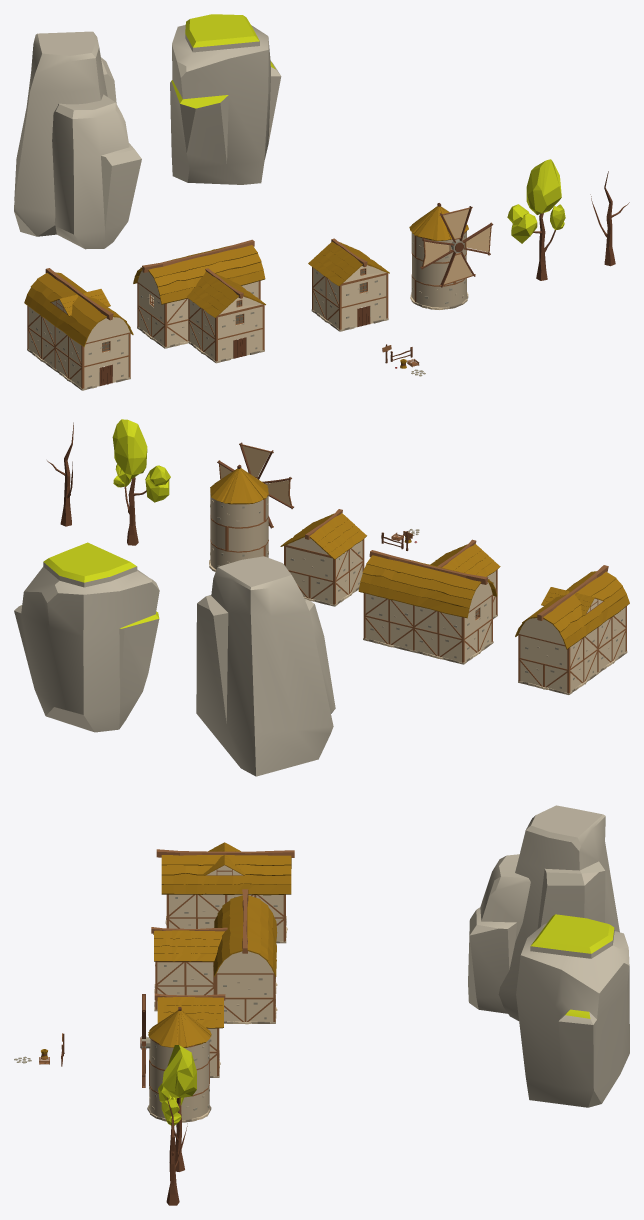
The model's file is Lowpoly Village Starter Kit.fbx.
3 renders of one model, top to bottom at view 1: azimuth 30°, elevation 25°; view 2: azimuth 150°, elevation 25°; view 3: azimuth 270°, elevation 25°, orthographic. The views are drawn at different scales.
Parts seen in each view (by area): view 1: Cliff, CliffGrassy, House2, House1, WindMill, House, Tree3, Tree5; view 2: Cliff, CliffGrassy, House2, House1, WindMill, House, Tree3, Tree5; view 3: CliffGrassy, Cliff, House2, House1, WindMill, Tree3, House, Tree5.
Boxes of the visible parts, box(x1,y1,x2,y2) form: Cliff: box(14, 31, 141, 249); CliffGrassy: box(170, 14, 281, 184); House2: box(133, 239, 265, 363); House1: box(24, 268, 133, 390); WindMill: box(409, 203, 493, 309); House: box(308, 238, 389, 331); Tree3: box(507, 159, 565, 280); Tree5: box(590, 171, 629, 266); Cliff: box(196, 556, 335, 776); CliffGrassy: box(14, 542, 159, 732); House2: box(358, 539, 500, 664); House1: box(515, 565, 629, 694); WindMill: box(209, 442, 293, 571); House: box(280, 509, 366, 606); Tree3: box(112, 419, 170, 545); Tree5: box(47, 422, 73, 526); CliffGrassy: box(516, 914, 629, 1107); Cliff: box(468, 805, 619, 1020); House2: box(151, 889, 277, 1024); House1: box(156, 842, 294, 943); WindMill: box(140, 994, 211, 1122); Tree3: box(158, 1045, 196, 1171); House: box(154, 993, 225, 1077); Tree5: box(166, 1097, 187, 1205).
Size of the model in its own units: 7264 by 2226 by 6477.
Materials: 1 (1 with a texture image).
